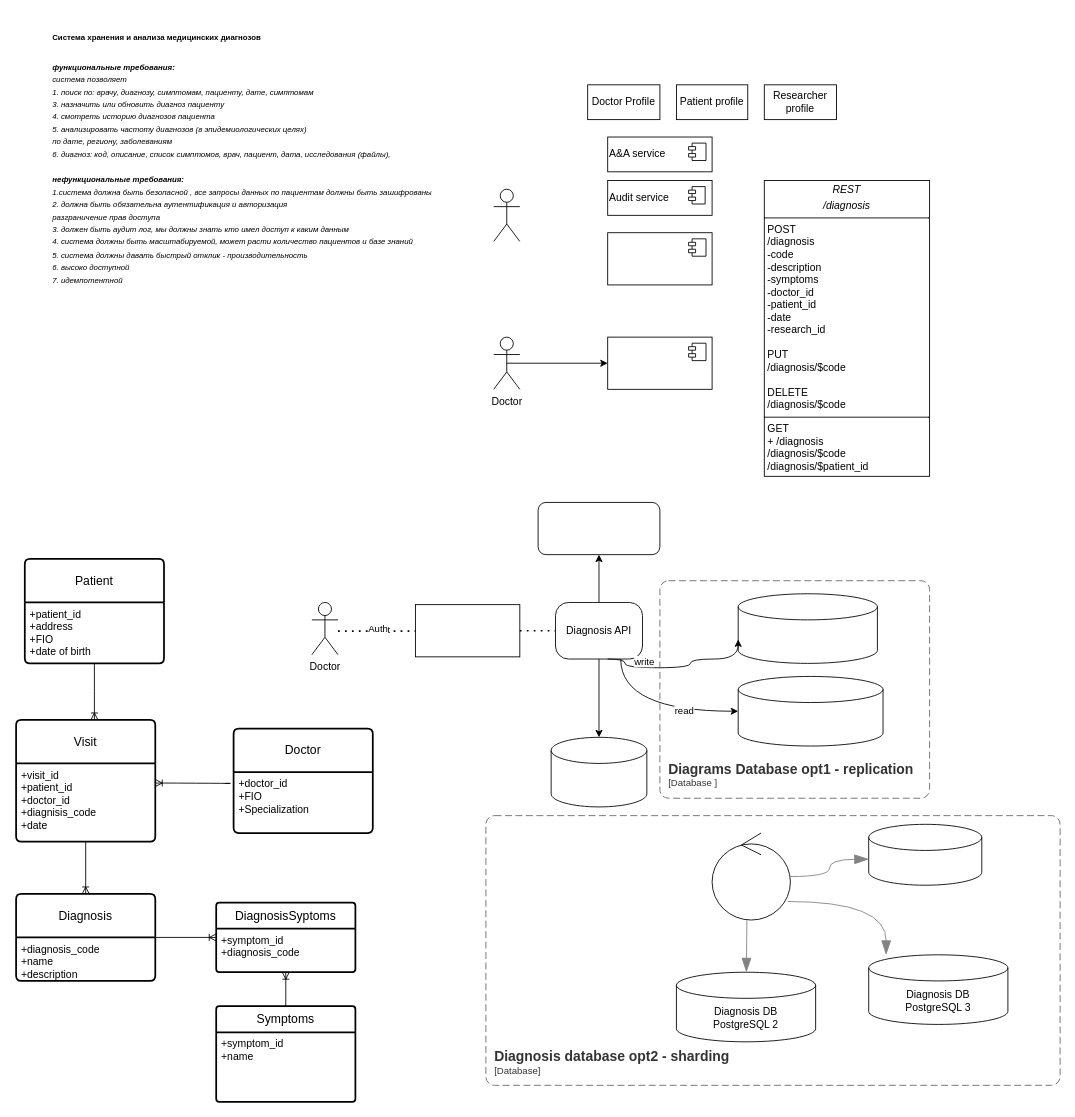
Image size: 1075x1117. Some labels were removed from this diagram. Each missing label, with the centre of its shape:
"Administrator" belongs at point (506, 214).
"Analitics system" belongs at point (659, 258).
"API Gateway Loadbalancer" belongs at point (467, 630).
"Consistency hashing" belongs at point (750, 876).
"Diagnosis Cache" belongs at point (598, 528).
"Diagnosis DB PostgreSQL" belongs at point (807, 628).
"Diagnosis DB PostgreSQL 1" belongs at point (925, 854).
"Diagnosis DB Slave" belongs at point (810, 711).
"Diagnosis service" belongs at point (659, 362).
"MedTests DB File storage" belongs at point (598, 771).
